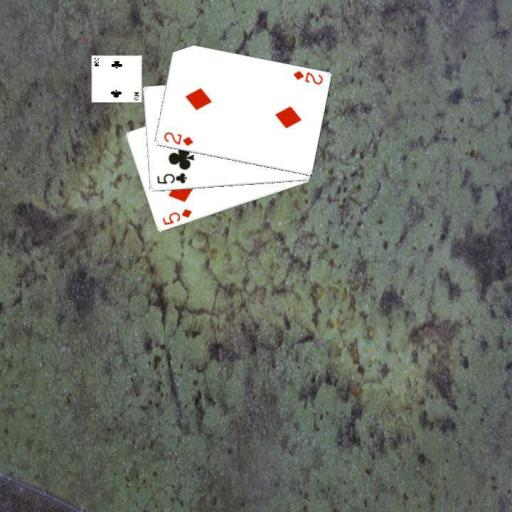2D: (160, 129, 194, 147), (290, 68, 324, 86)
5C: (154, 170, 188, 186)
5D: (160, 205, 194, 227)
